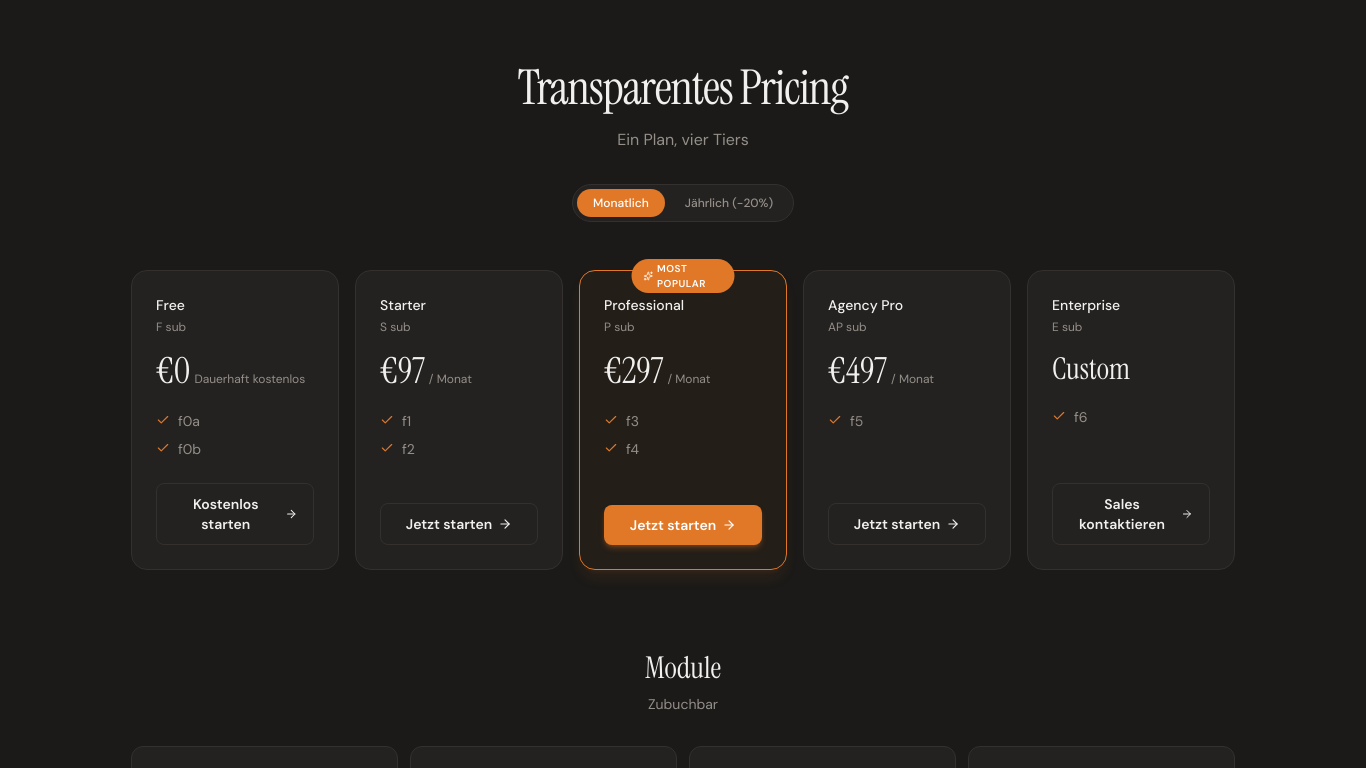
Test: PricingClient › yearly toggle applies -20% discount (rounded)
The image size is (1366, 768).
Step 1. Click the button with test id "billing-toggle-yearly" → (729, 203), box [669,189,789,217]
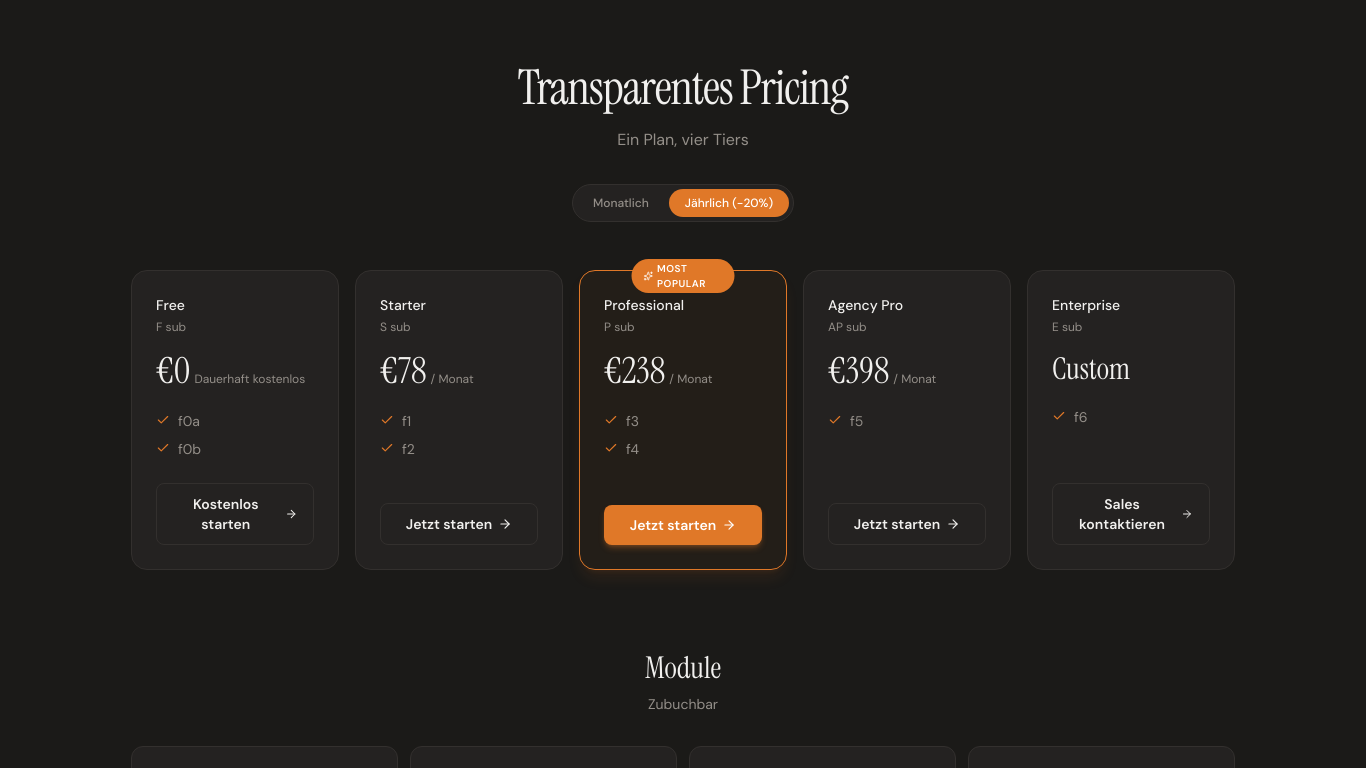
expect the element with test id "pricing-tier-starter" shows "€78": met, box [355,270,563,570]
expect the element with test id "pricing-tier-professional" shows "€238": met, box [579,270,787,570]
expect the element with test id "pricing-tier-agencyPro" shows "€398": met, box [803,270,1011,570]
